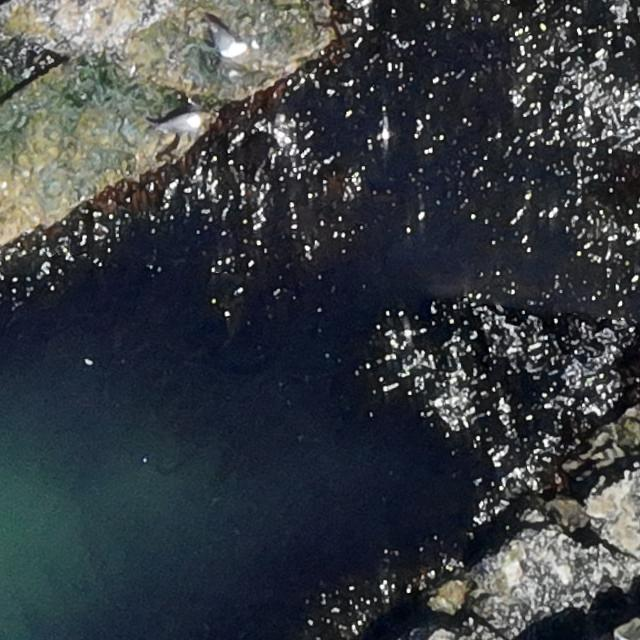umineko: (209, 20, 245, 63), (159, 114, 197, 132)
